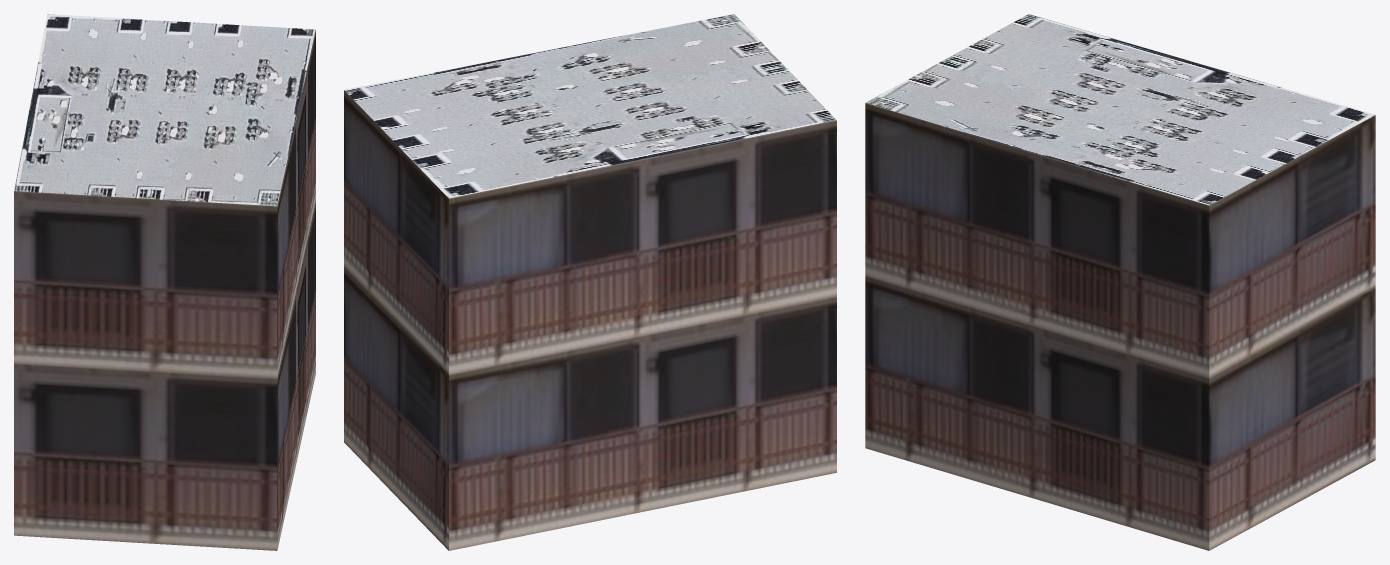
The model's file is ResTex__3973.fbx.
3 renders of one model, left to right at view 1: azimuth 30°, elevation 25°; view 2: azimuth 150°, elevation 25°; view 3: azimuth 270°, elevation 25°, orthographic. The views are drawn at different scales.
Parts seen in each view (by area): view 1: CityEngineMaterial_6_m, CityEngineMaterial_m; view 2: CityEngineMaterial_6_m, CityEngineMaterial_m; view 3: CityEngineMaterial_6_m, CityEngineMaterial_m.
Boxes of the visible parts, left/top/right/bottom form: CityEngineMaterial_6_m: left=14, top=30, right=315, bottom=550; CityEngineMaterial_m: left=14, top=14, right=315, bottom=206; CityEngineMaterial_6_m: left=344, top=90, right=836, bottom=550; CityEngineMaterial_m: left=344, top=14, right=836, bottom=198; CityEngineMaterial_6_m: left=865, top=103, right=1375, bottom=550; CityEngineMaterial_m: left=865, top=14, right=1375, bottom=205.
Bounding box in the file's own units: 7.14 × 6 × 8.04.
Materials: 2 (2 with a texture image).
